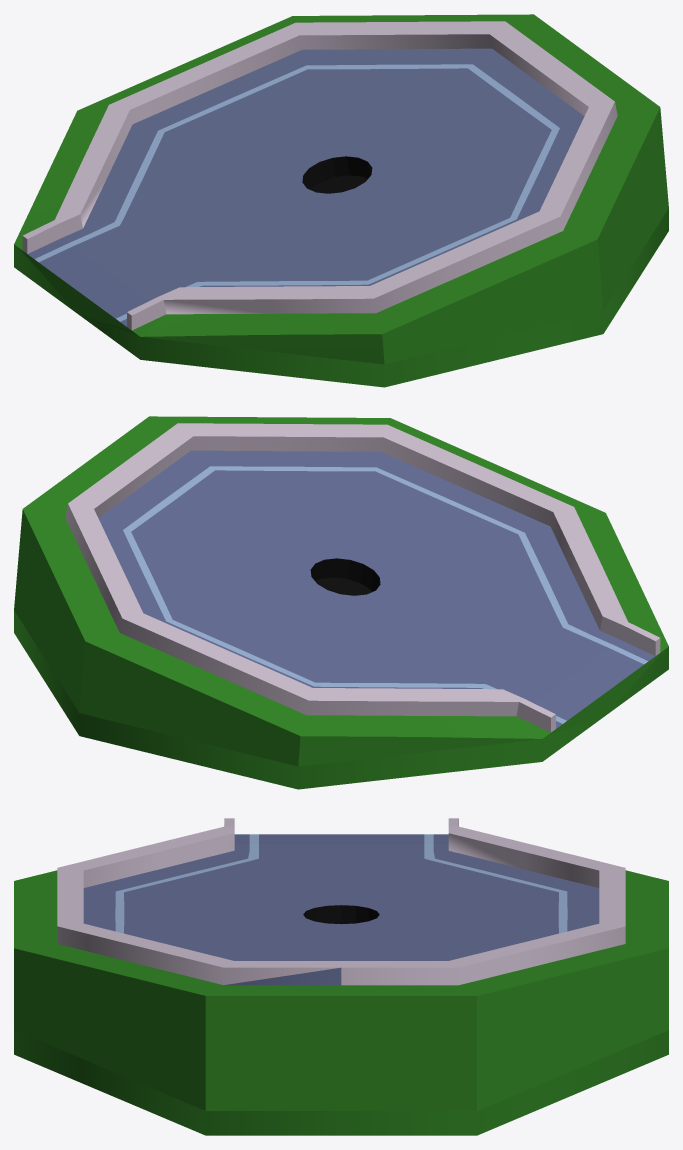
Rendered from Hex Inclined Hole.fbx.
3 views of the same model, one above another, from view 1: azimuth 30°, elevation 25°; view 2: azimuth 150°, elevation 25°; view 3: azimuth 270°, elevation 25° (orthographic). The views are drawn at different scales.
Visible parts, largest first — view 1: Cylinder008; view 2: Cylinder008; view 3: Cylinder008.
Part boxes in pixels (x1=…): Cylinder008: x1=14, y1=14, x2=668, y2=387; Cylinder008: x1=14, y1=416, x2=668, y2=789; Cylinder008: x1=14, y1=818, x2=668, y2=1135.
Size of the model in its own units: 122 by 29.61 by 122.
